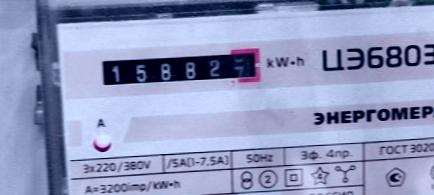1: (108, 63, 121, 82)
2: (207, 57, 220, 77)
5: (133, 62, 146, 82)
7: (232, 64, 244, 78)
8: (158, 60, 171, 81), (183, 59, 196, 80)
screen: (93, 42, 269, 93)
